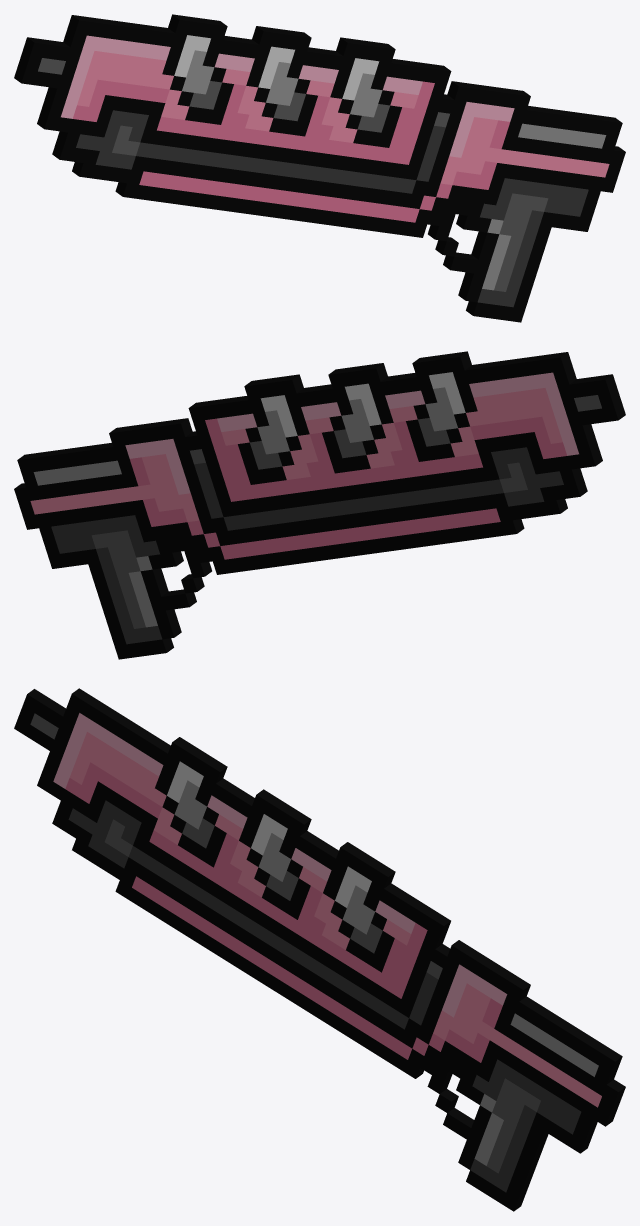
Rendered from Pink Paintball Gun.glb.
3 renders of one model, top to bottom at view 1: azimuth 30°, elevation 25°; view 2: azimuth 150°, elevation 25°; view 3: azimuth 330°, elevation 25°, orthographic.
Parts seen in each view (by area): view 1: Untitled; view 2: Untitled; view 3: Untitled.
Part boxes in pixels (x1=…): Untitled: x1=14, y1=14, x2=625, y2=322; Untitled: x1=14, y1=351, x2=625, y2=659; Untitled: x1=14, y1=688, x2=625, y2=1211.
Bounding box in the file's own units: 18.93 × 12.27 × 0.4.
Materials: 1 (1 with a texture image).
